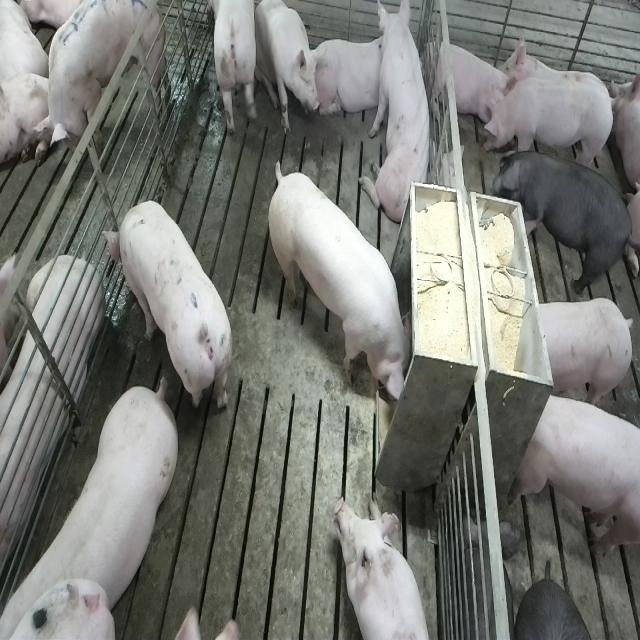Feeding: (272, 160, 421, 409)
Sitting: (364, 4, 436, 230), (255, 0, 320, 138)
Standing: (6, 373, 183, 634), (102, 199, 234, 421), (515, 386, 639, 563), (490, 140, 636, 290), (38, 1, 167, 148), (480, 73, 617, 169), (530, 295, 634, 412), (200, 0, 260, 137)
Sternal_lying: (0, 254, 101, 576), (332, 494, 433, 640), (426, 35, 509, 134), (311, 35, 391, 122)
